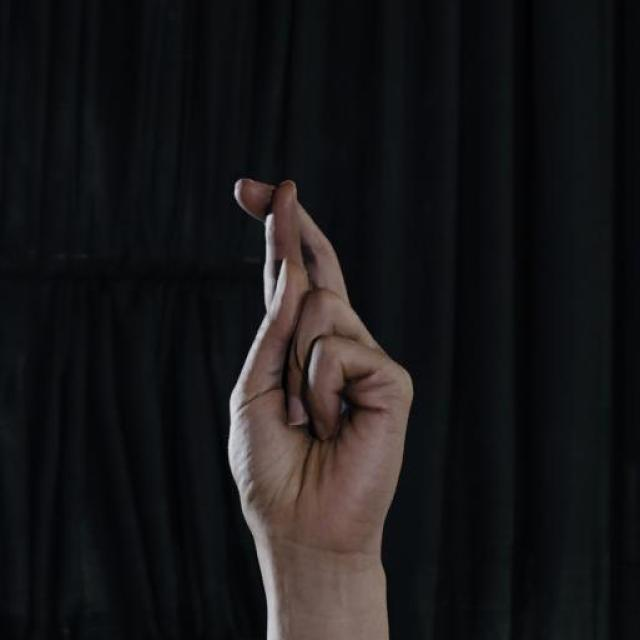R: (217, 170, 422, 582)
